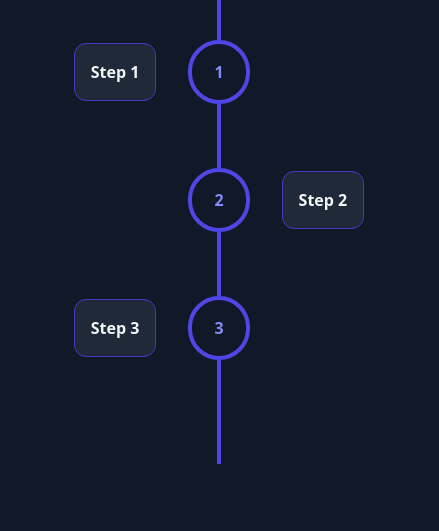
Scenario: Timeline Component › only one step is open at a time
This screenshot has width=439, height=531.
Click the text "Step 1".
click(115, 72)  # box [91, 61, 140, 83]
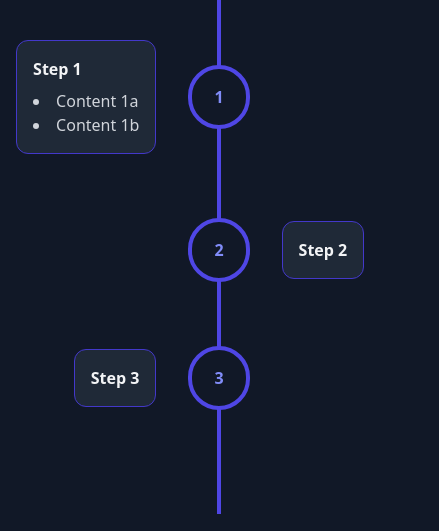
Result: the list item "Content 1a" is shown at [56, 90, 138, 112]
Click the text "Step 2".
click(323, 250)  # box [299, 239, 347, 261]
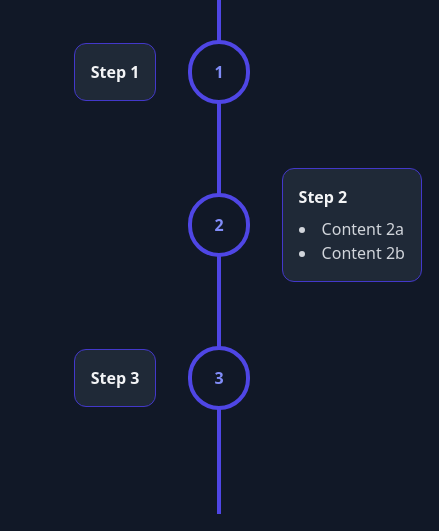
Result: the list item "Content 2a" is shown at [322, 218, 404, 240]
Result: the list item "Content 1a" is gone
